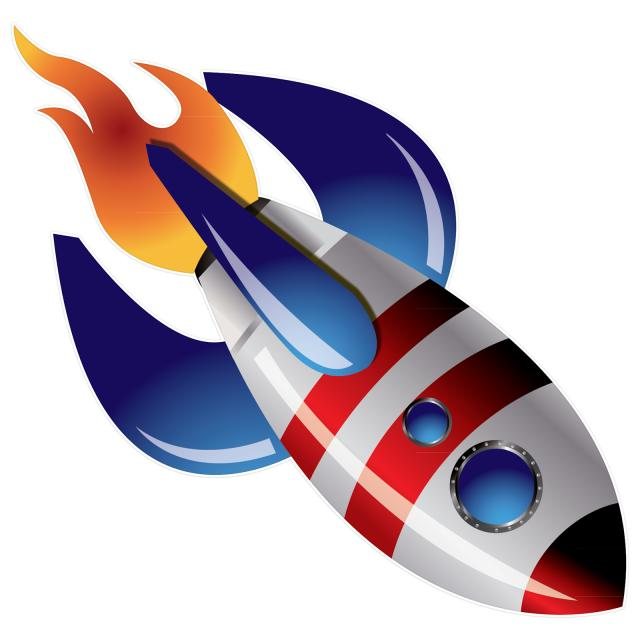rocket: (40, 72, 631, 627)
